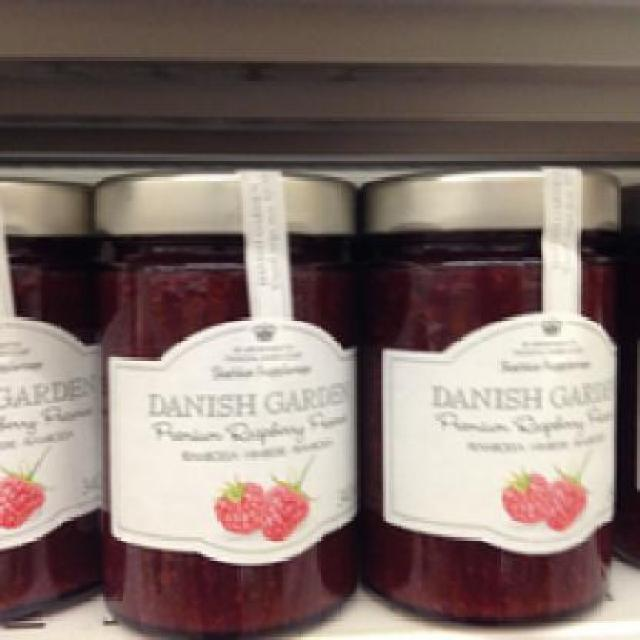Jam: (94, 165, 363, 638), (360, 163, 620, 626), (0, 170, 103, 626)
